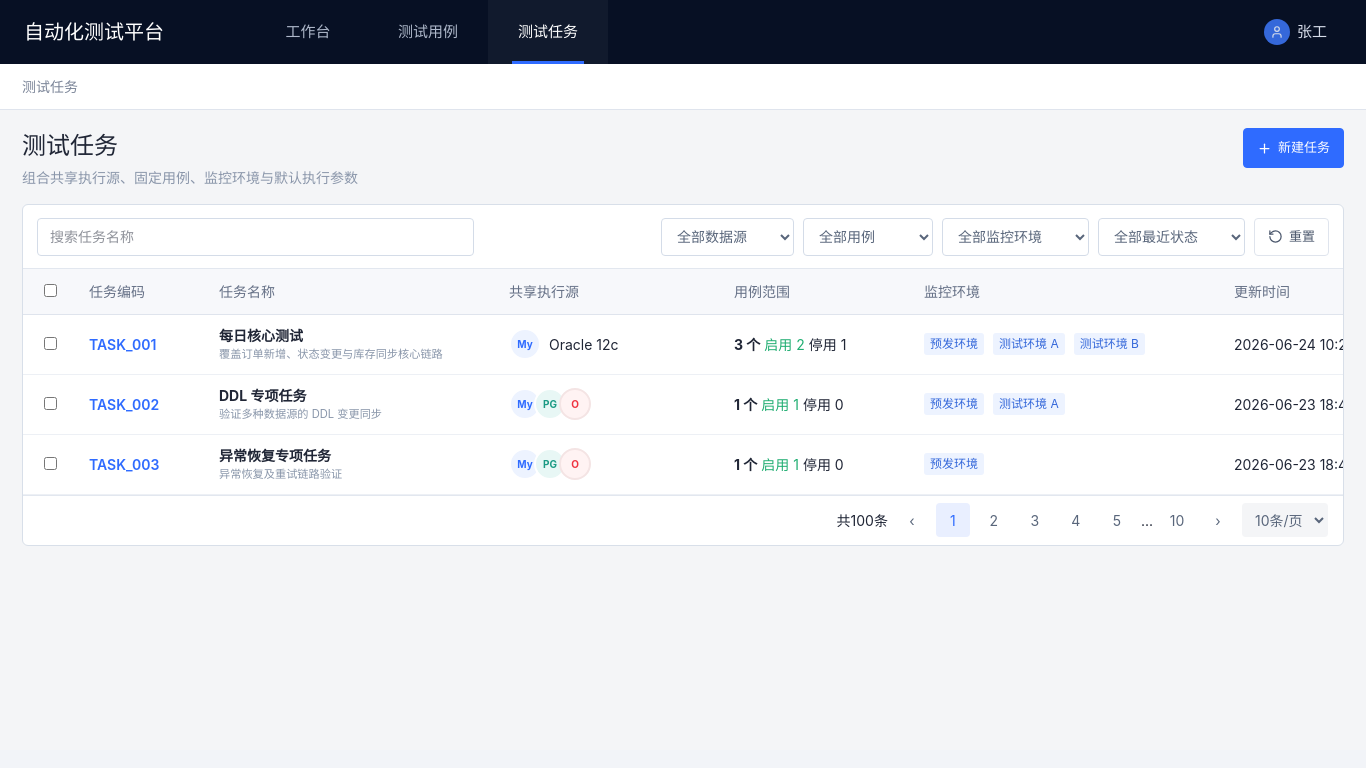
Test: 测试任务模块新版原型 › 展示设计稿中的任务列表，并仅在选中任务后显示批量操作
The width and height of the screenshot is (1366, 768).
Expected: the heading "测试任务" is shown, [22,131,118,160]
Expected: the field with placeholder "搜索任务名称" is shown, [37,218,474,256]
Click the 2nd checkbox.
click(50, 343)  # box [44,336,57,350]
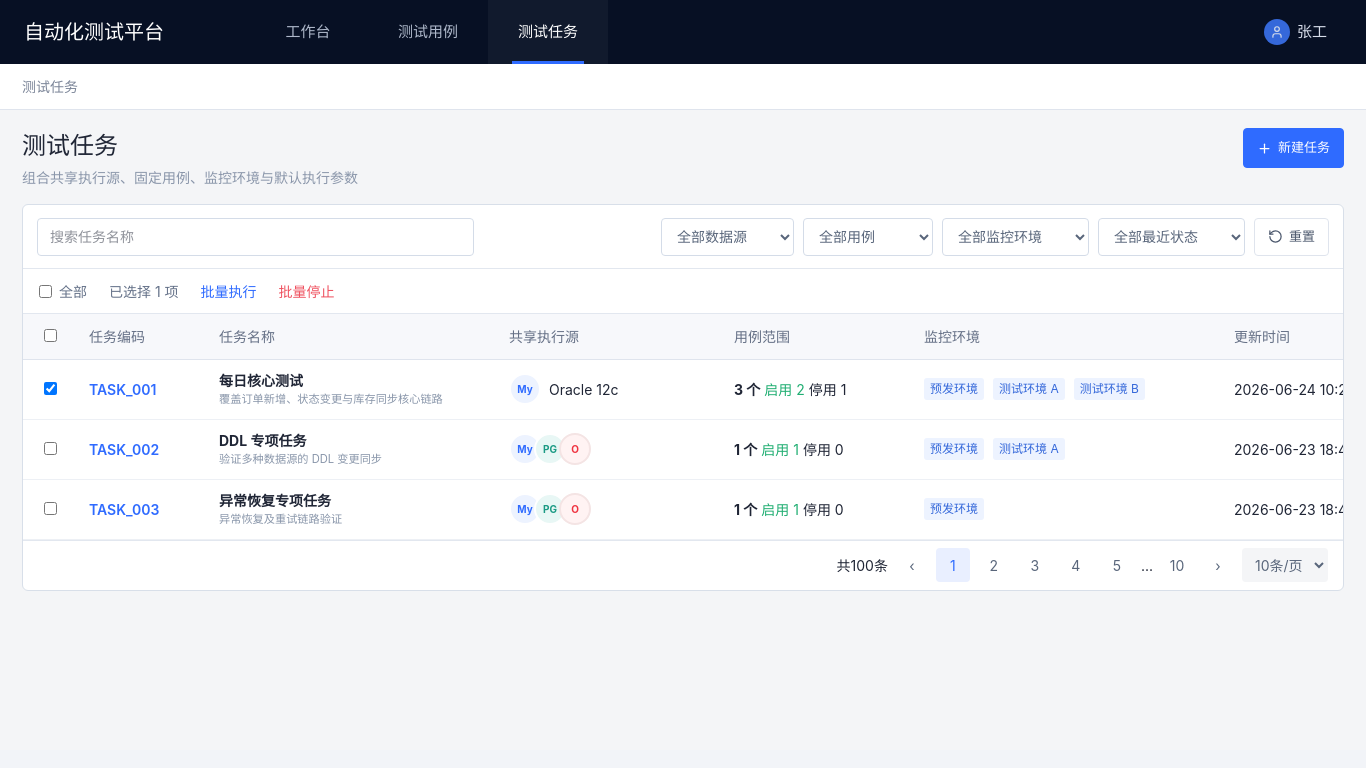
Result: the button "批量执行" is shown at [201,280,257,302]
Result: the text "已选择 1 项" is shown at [109,280,179,302]
